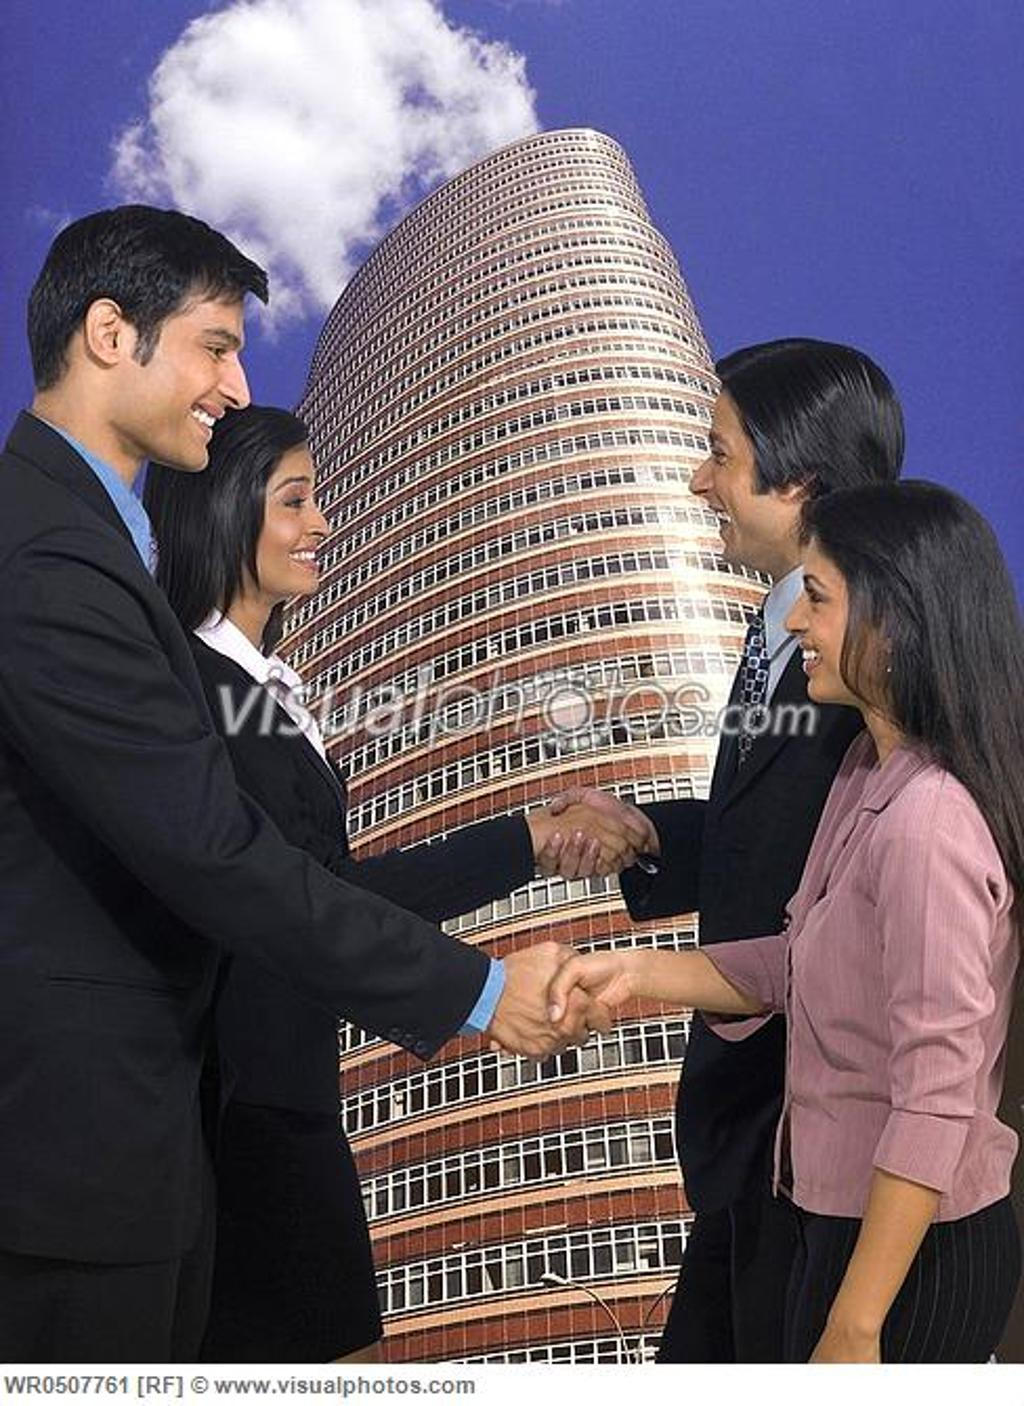face: (143, 258, 256, 475), (782, 527, 867, 703), (242, 434, 333, 596), (692, 387, 774, 565)
